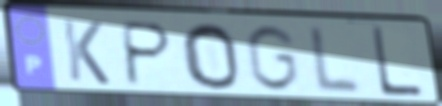G: (243, 23, 302, 94)
K: (59, 17, 113, 88)
L: (368, 25, 425, 100), (308, 24, 365, 98)
O: (178, 21, 243, 92)
P: (121, 19, 176, 88)
